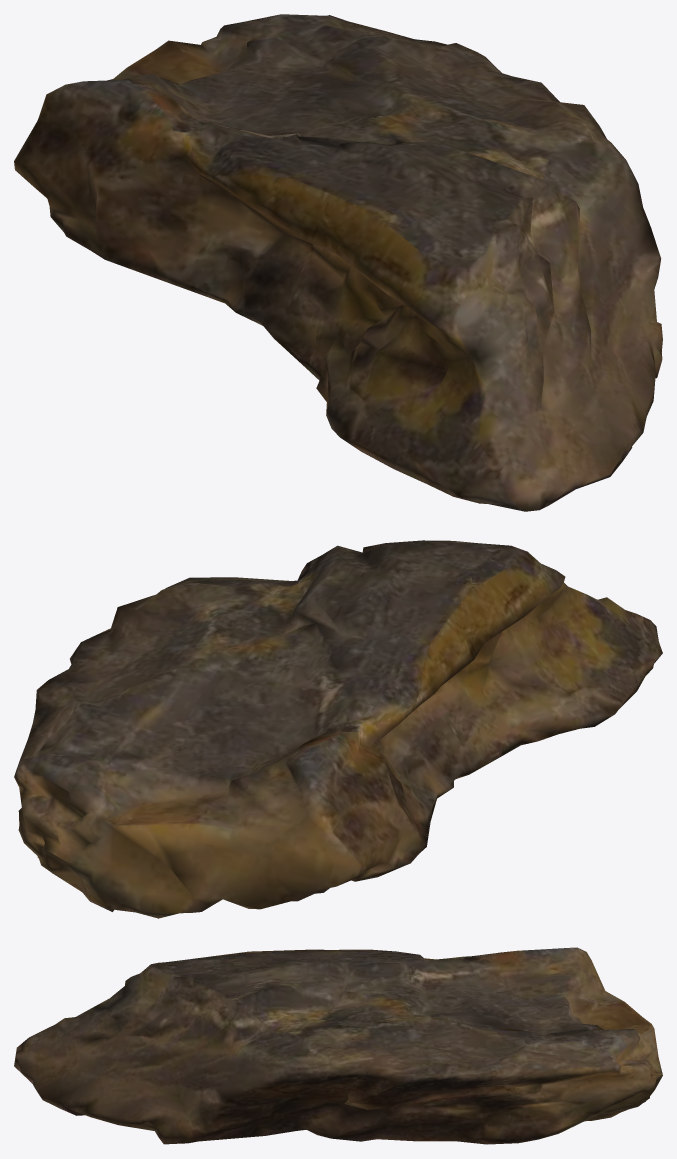
The model's file is rock_09.glb.
3 renders of one model, top to bottom at view 1: azimuth 30°, elevation 25°; view 2: azimuth 150°, elevation 25°; view 3: azimuth 270°, elevation 25°, orthographic. The views are drawn at different scales.
Visible parts, largest first — view 1: rock_09_LOD0; view 2: rock_09_LOD0; view 3: rock_09_LOD0.
Part boxes in pixels (x1=…): rock_09_LOD0: x1=14, y1=14, x2=662, y2=511; rock_09_LOD0: x1=14, y1=540, x2=662, y2=918; rock_09_LOD0: x1=14, y1=947, x2=662, y2=1144.
Bounding box in the file's own units: 0.0739 × 0.0326 × 0.1446.
Materials: 1 (1 with a texture image).
